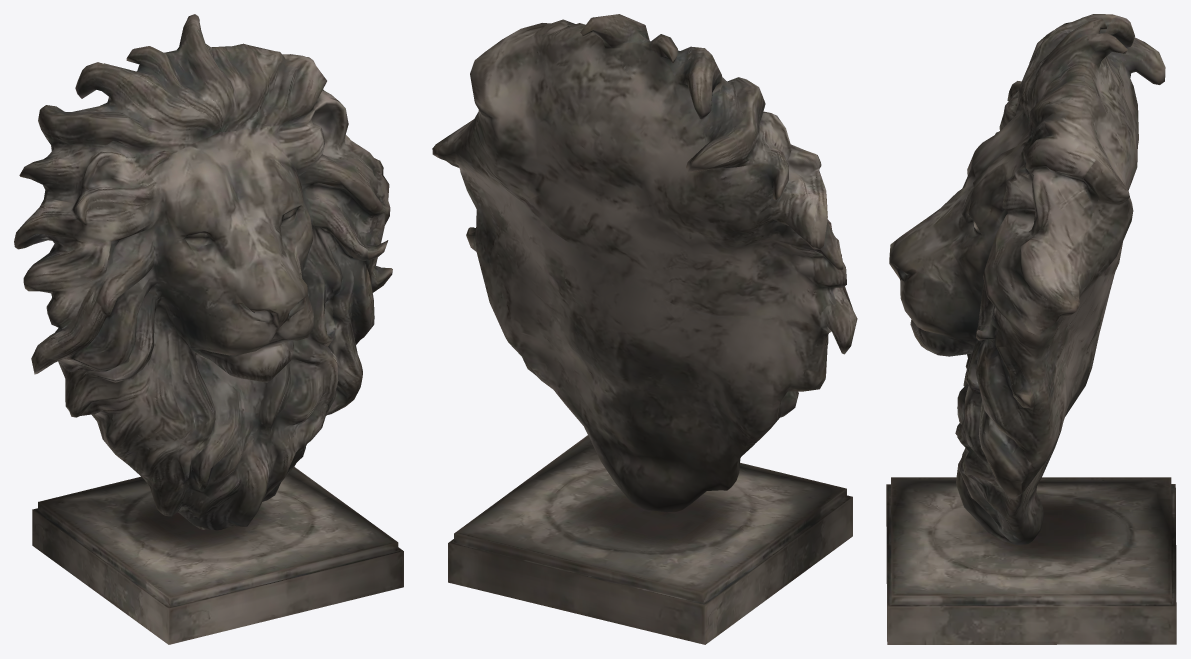
The model's file is lion_head.light.glb.
3 renders of one model, left to right at view 1: azimuth 30°, elevation 25°; view 2: azimuth 150°, elevation 25°; view 3: azimuth 270°, elevation 25°, orthographic. The views are drawn at different scales.
Visible parts, largest first — view 1: lion_head; view 2: lion_head; view 3: lion_head.
Boxes of the visible parts, box(x1,y1,x2,y2) form: lion_head: box(14, 14, 403, 644); lion_head: box(432, 14, 857, 644); lion_head: box(886, 14, 1176, 644).
Size of the model in its own units: 2 by 2.72 by 1.29.
1 material, 1 textured.
